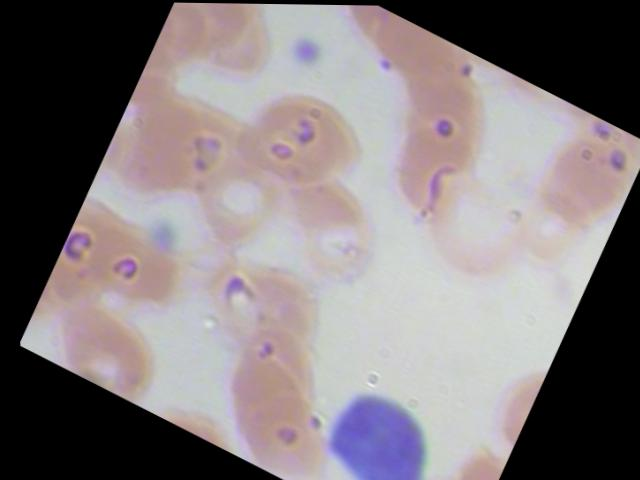Platelets: (278, 27, 330, 76), (132, 208, 184, 257)
Red Blood Cells: (220, 65, 388, 220), (24, 273, 180, 409), (346, 109, 488, 242), (262, 169, 403, 302), (203, 278, 335, 406), (70, 203, 202, 331), (195, 326, 327, 453), (373, 60, 504, 178), (374, 35, 506, 152), (172, 141, 293, 261), (524, 118, 639, 242), (218, 375, 348, 479), (160, 2, 292, 104), (490, 166, 600, 286), (360, 9, 484, 112), (322, 4, 436, 72), (49, 324, 147, 402), (487, 65, 588, 129), (362, 459, 481, 479)
White Blood Cells: (296, 356, 467, 479)
